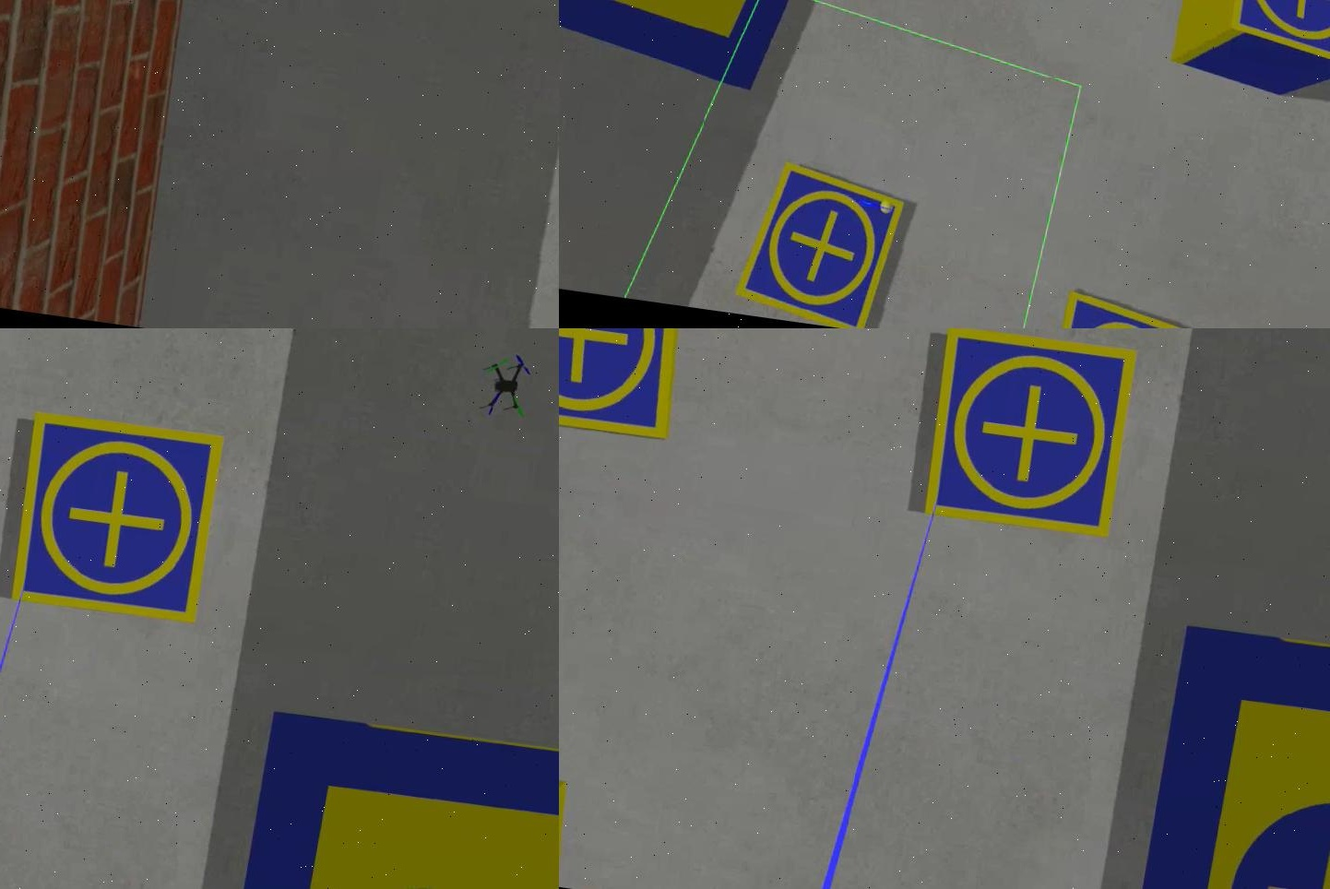large_base: (218, 709, 558, 889), (1132, 623, 1328, 889), (558, 1, 876, 97)
small_base: (1, 404, 224, 634), (915, 328, 1138, 547), (730, 158, 907, 328), (558, 328, 696, 444), (1220, 1, 1328, 77), (1051, 288, 1202, 328)
